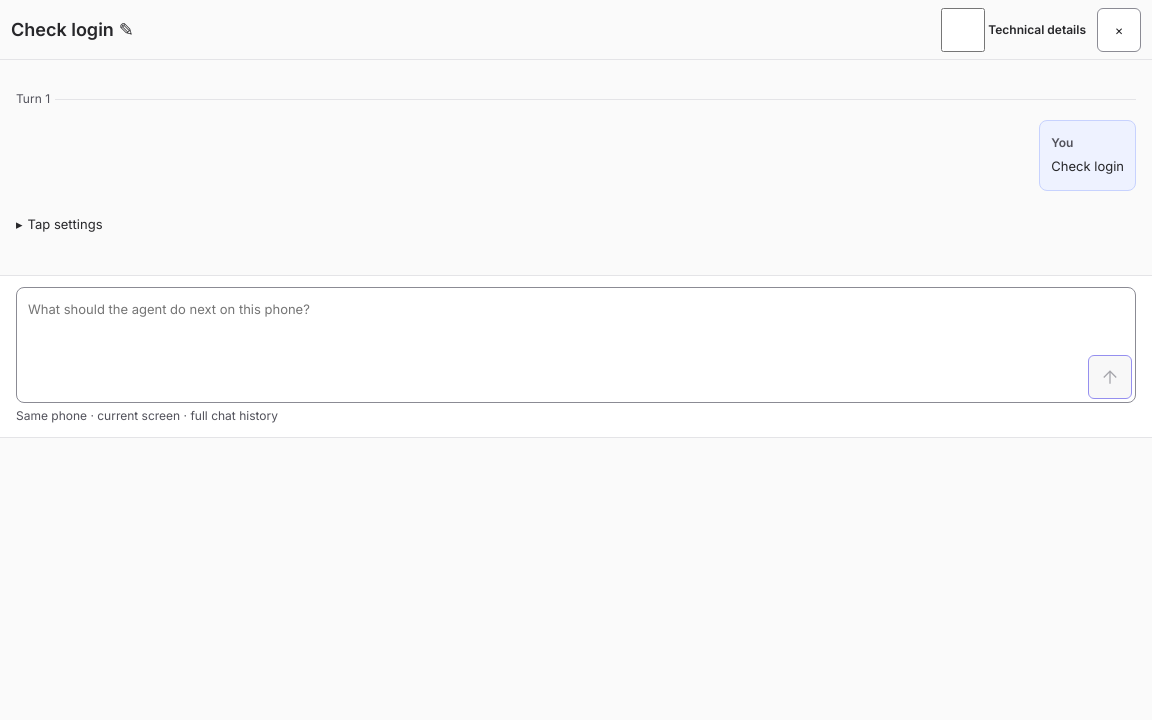
Test case: RunChatComponent › never shows a Before image as the post-action screenshot
The width and height of the screenshot is (1152, 720).
Click the heading "Tap settings" at (65, 224), box x1=28 y1=216 x2=102 y2=232
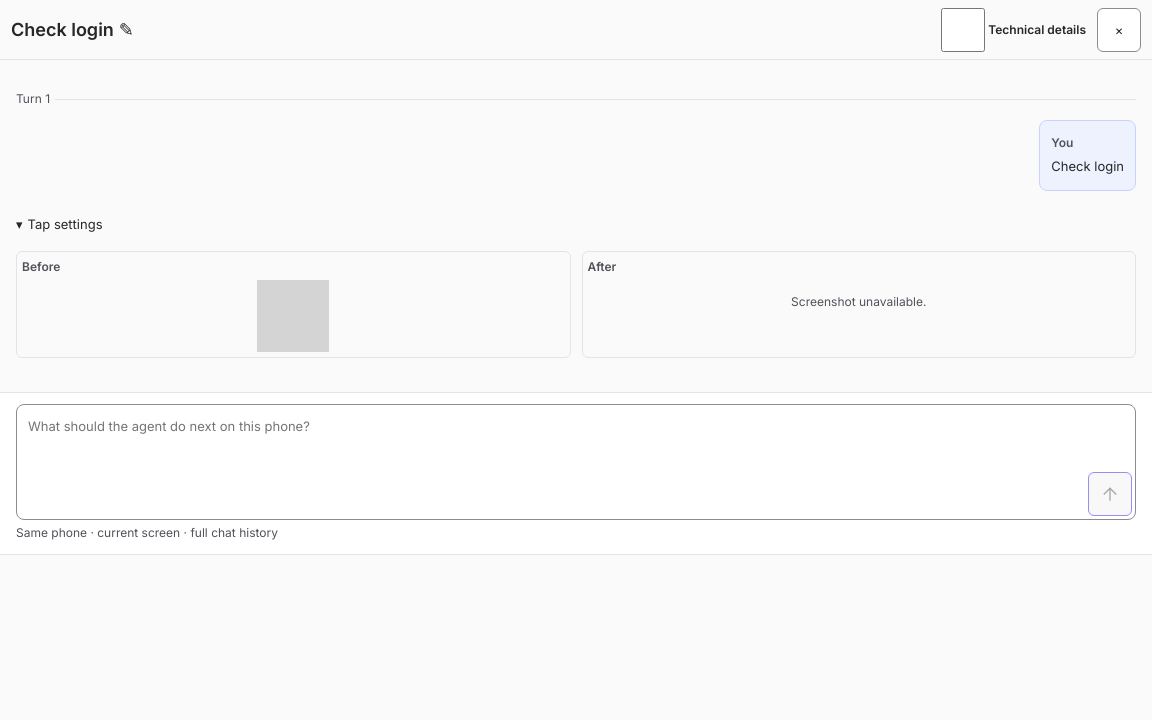
Expected: the list item with class "step-row" shows "Screenshot unavailable", x1=791 y1=294 x2=926 y2=309
